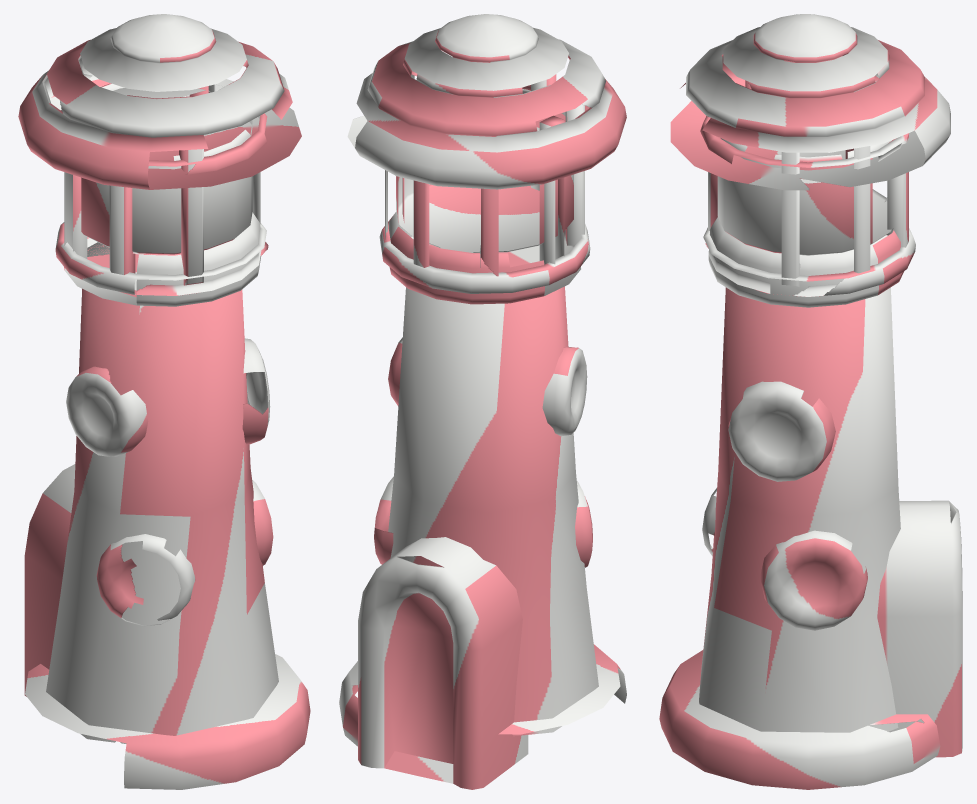
Rendered from Lhouse_mellow.fbx.
The picture shows the model from 3 angles, left to right: view 1: azimuth 30°, elevation 25°; view 2: azimuth 150°, elevation 25°; view 3: azimuth 270°, elevation 25°; orthographic projection.
Parts seen in each view (by area): view 1: lighthouse_mellow; view 2: lighthouse_mellow; view 3: lighthouse_mellow.
Part boxes in pixels (x1,y1,x2,y2): lighthouse_mellow: (18,14,310,789); lighthouse_mellow: (339,14,626,789); lighthouse_mellow: (659,14,962,789).
Size of the model in its own units: 1153 by 3033 by 1173.
